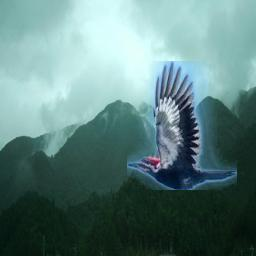Woodpecker: (127, 61, 237, 190)
